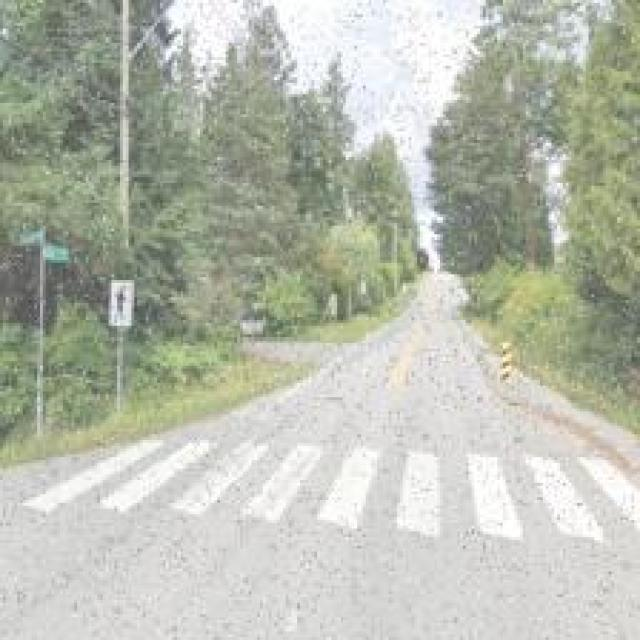zebra: (5, 437, 640, 571)
